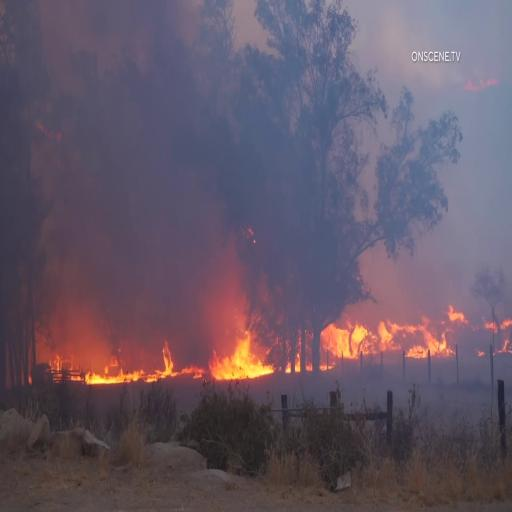fire: (210, 319, 268, 380), (83, 349, 175, 386), (406, 319, 450, 359), (320, 320, 366, 355)
smoke: (62, 255, 207, 334)
